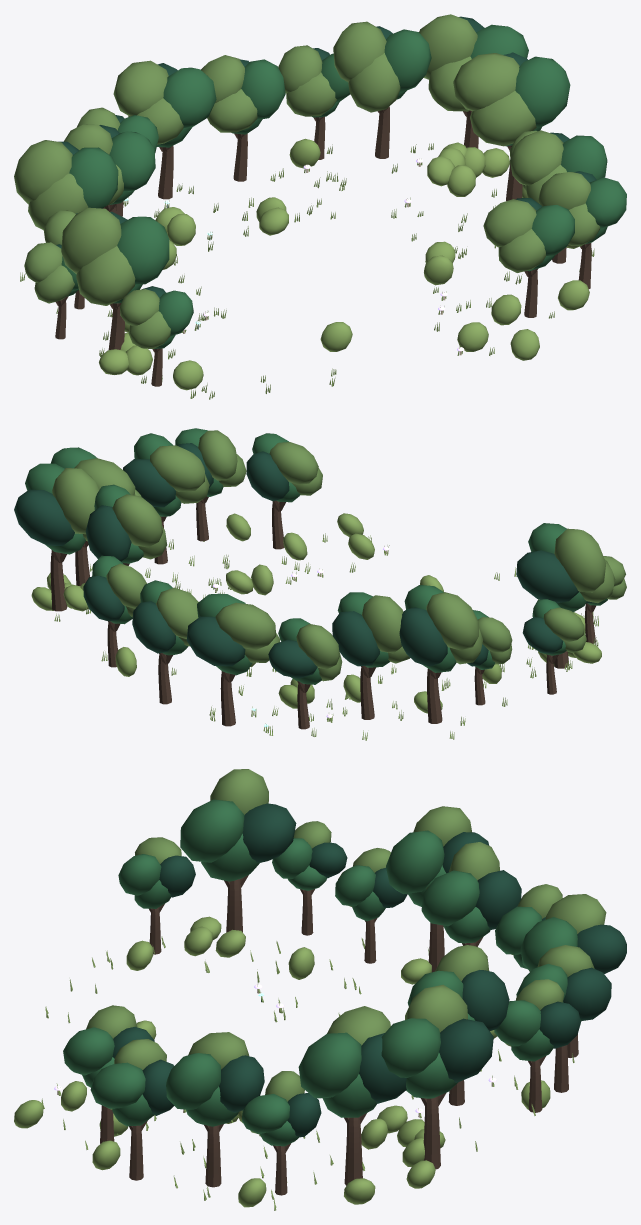
Rendered from forest-vegetation.glb.
The picture shows the model from 3 angles, top to bottom: view 1: azimuth 30°, elevation 25°; view 2: azimuth 150°, elevation 25°; view 3: azimuth 270°, elevation 25°; orthographic projection. The views are drawn at different scales.
Visible parts, largest first — view 1: ForestVegetation_leafLight, ForestVegetation_leaf, ForestVegetation_moss, ForestVegetation_bark, ForestVegetation_leafDark; view 2: ForestVegetation_leafLight, ForestVegetation_leafDark, ForestVegetation_leaf, ForestVegetation_moss, ForestVegetation_bark; view 3: ForestVegetation_leaf, ForestVegetation_leafDark, ForestVegetation_leafLight, ForestVegetation_moss, ForestVegetation_bark.
Boxes of the visible parts, x1,y1,x2,y2 form: ForestVegetation_leafLight: (14, 14, 600, 348); ForestVegetation_leaf: (61, 24, 626, 348); ForestVegetation_moss: (20, 138, 594, 399); ForestVegetation_bark: (55, 106, 591, 386); ForestVegetation_leafDark: (56, 16, 596, 329); ForestVegetation_leafLight: (52, 430, 626, 681); ForestVegetation_leafDark: (14, 443, 592, 727); ForestVegetation_leaf: (25, 428, 607, 684); ForestVegetation_moss: (31, 513, 601, 740); ForestVegetation_bark: (50, 496, 595, 729); ForestVegetation_leaf: (63, 799, 581, 1146); ForestVegetation_leafDark: (112, 803, 626, 1137); ForestVegetation_leafLight: (86, 769, 606, 1134); ForestVegetation_moss: (14, 916, 574, 1210); ForestVegetation_bark: (100, 875, 578, 1195).
Bounding box in the file's own units: 17 × 5.34 × 14.8.
